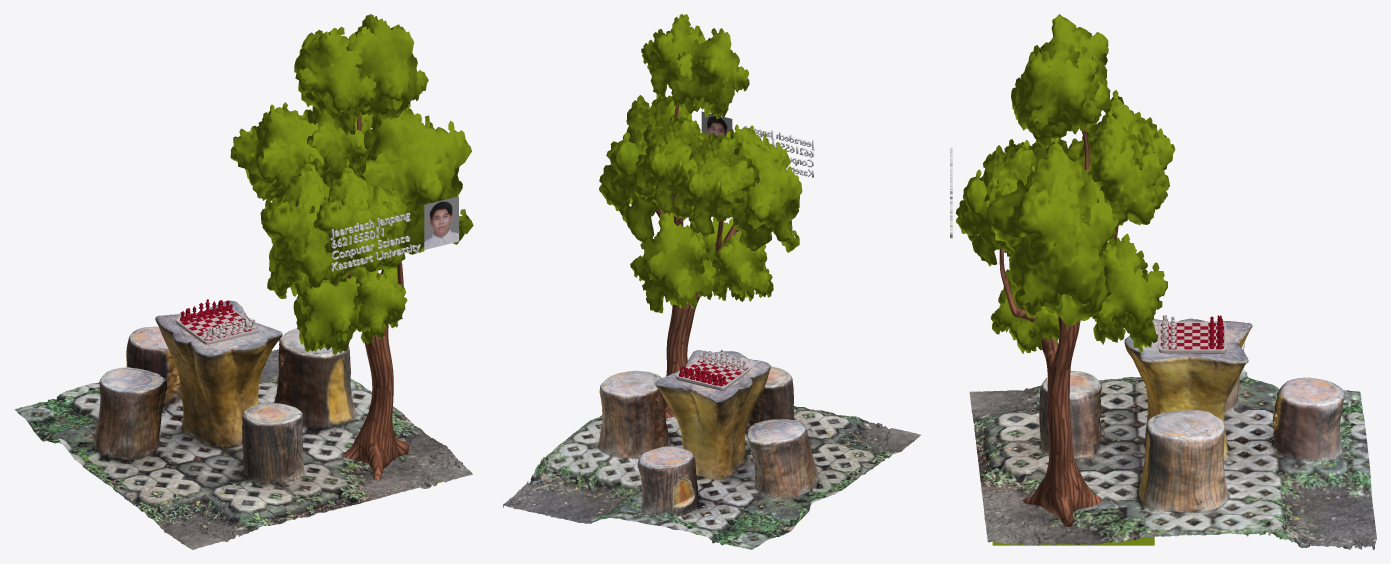
3 views of the same model, side by side, from view 1: azimuth 30°, elevation 25°; view 2: azimuth 150°, elevation 25°; view 3: azimuth 270°, elevation 25° (orthographic). The views are drawn at different scales.
Parts seen in each view (by area): view 1: Object_4, Plane.002, Object_36, Text, Screenshot_20250313_221820_mini_NisitKU; view 2: Object_4, Plane.002, Object_36, Text, Screenshot_20250313_221820_mini_NisitKU; view 3: Object_4, Plane.002, Object_36.
Part boxes in pixels (<box>): Object_4: <box>14,300,472,549</box>; Plane.002: <box>230,14,473,482</box>; Object_36: <box>175,299,259,344</box>; Text: <box>330,212,420,271</box>; Screenshot_20250313_221820_mini_NisitKU: <box>424,196,458,249</box>; Object_4: <box>503,350,920,549</box>; Plane.002: <box>599,14,802,418</box>; Object_36: <box>676,349,749,390</box>; Text: <box>744,126,814,177</box>; Screenshot_20250313_221820_mini_NisitKU: <box>701,111,732,135</box>; Object_4: <box>969,318,1376,549</box>; Plane.002: <box>956,14,1175,545</box>; Object_36: <box>1158,315,1225,353</box>.
Size of the model in its own units: 147 by 202 by 162.
Materials: 6 (3 with a texture image).
